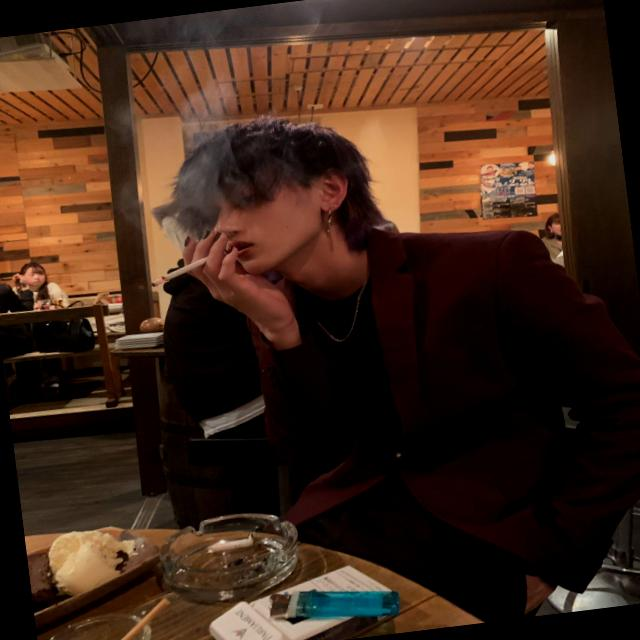smoke: (131, 248, 241, 284)
